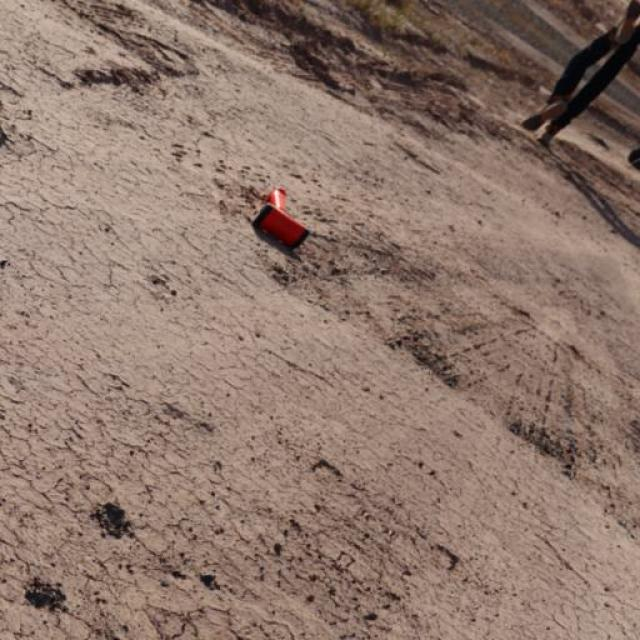mallet: (249, 185, 311, 250)
